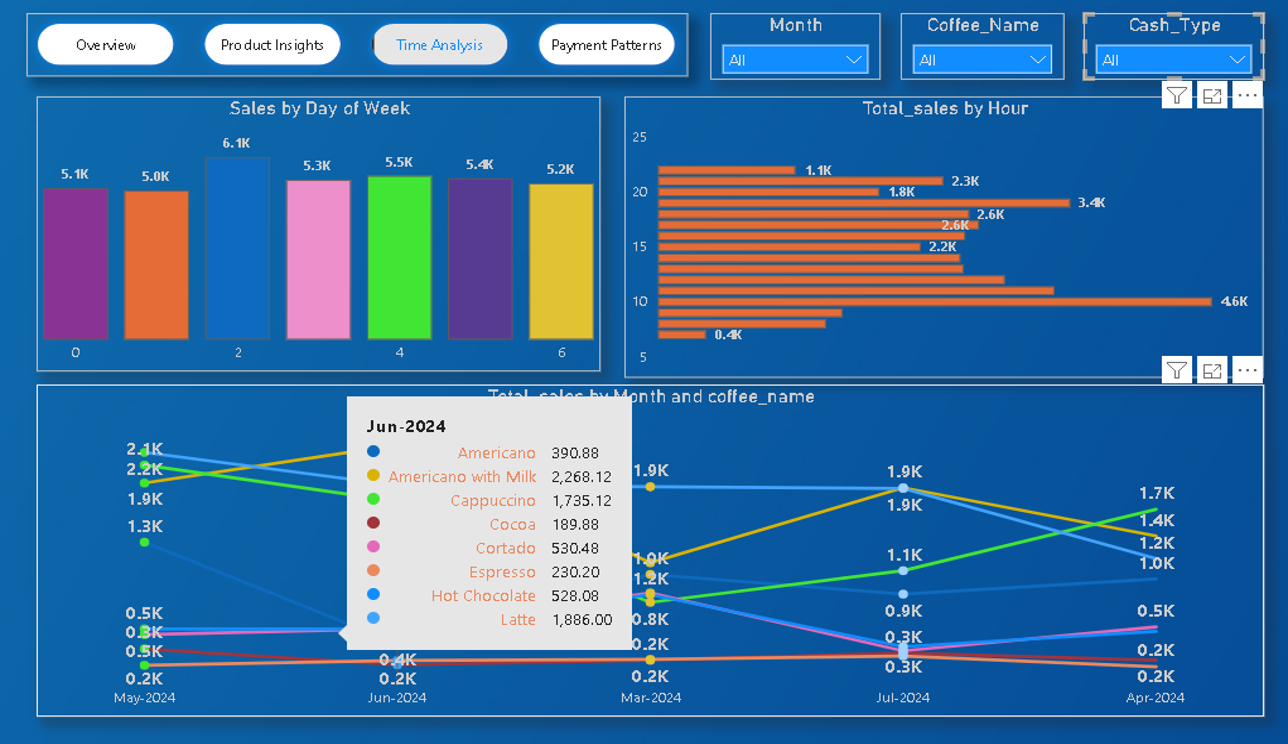

The dashboard page shown, as its layout file describes it:
{"tool":"powerbi","page":{"name":"Time Analysis","canvas":[1280,720],"ordinal":2},"visuals":[{"type":"columnChart","title":"Sales by Day of Week","fields":{"Y":["Measure.Total_sales"],"Category":["Coffee sales.Day of Week"]},"box":[59.6,100.1,502.9,259.9],"z":0},{"type":"barChart","fields":{"Y":["Measure.Total_sales"],"Category":["Coffee sales.Hour"]},"box":[583.9,100.1,570.4,265.5],"z":1000},{"type":"lineChart","fields":{"Y":["Measure.Total_sales"],"Category":["Coffee sales.Month"],"Series":["Coffee sales.coffee_name"]},"box":[59.6,372.4,1094.6,313.9],"z":2000},{"type":"slicer","title":"Cash_Type","fields":{"Values":["Coffee sales.cash_type"]},"box":[993.4,21.4,160.9,63],"z":3000},{"type":"slicer","title":"Coffee_Name","fields":{"Values":["Coffee sales.coffee_name"]},"box":[830.2,21.4,146.2,63],"z":4000},{"type":"slicer","title":"Month","fields":{"Values":["Coffee sales.Month"]},"box":[660.4,21.4,151.9,63],"z":5000},{"type":"pageNavigator","box":[50.6,21.4,589.5,59.6],"z":5001}]}

Visuals, with their boxes in screenshot pixels (x1, y1, x2, y2), scaled from the page's 1280x720 canvas onto the 1288x744 screenshot:
"Sales by Day of Week" columnChart: Rect(60, 103, 566, 372)
barChart - Measure.Total_sales x Coffee sales.Hour: Rect(588, 103, 1162, 378)
lineChart - Measure.Total_sales x Coffee sales.Month: Rect(60, 385, 1161, 709)
"Cash_Type" slicer: Rect(1000, 22, 1162, 87)
"Coffee_Name" slicer: Rect(835, 22, 983, 87)
"Month" slicer: Rect(665, 22, 817, 87)
pageNavigator: Rect(51, 22, 644, 84)
